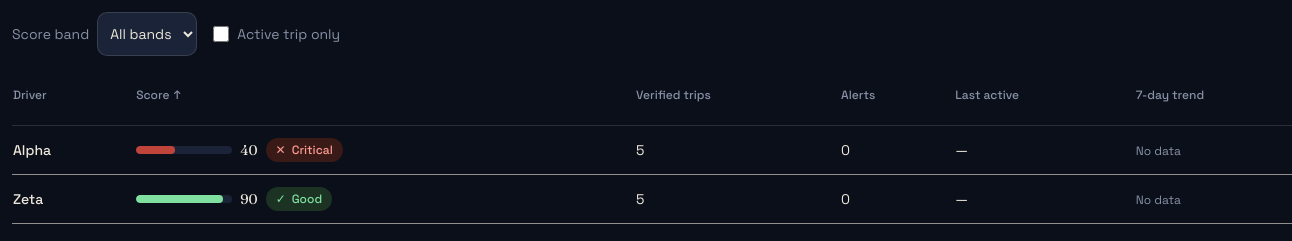
Test: DriverListClient › filters by score band
This screenshot has width=1292, height=241.
Select "Critical" in the dropdown labelled "Score band" at [147, 34], box x1=97 y1=12 x2=197 y2=56
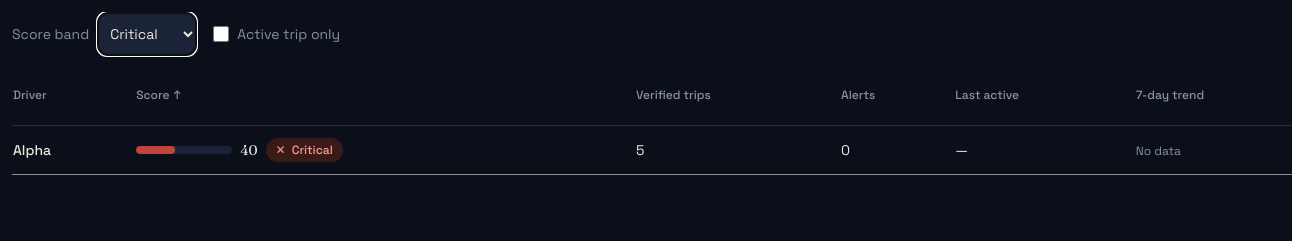
Expected: the link reads "Alpha", x1=13 y1=141 x2=51 y2=159
Expected: the number of links is 1, x1=13 y1=141 x2=51 y2=159
